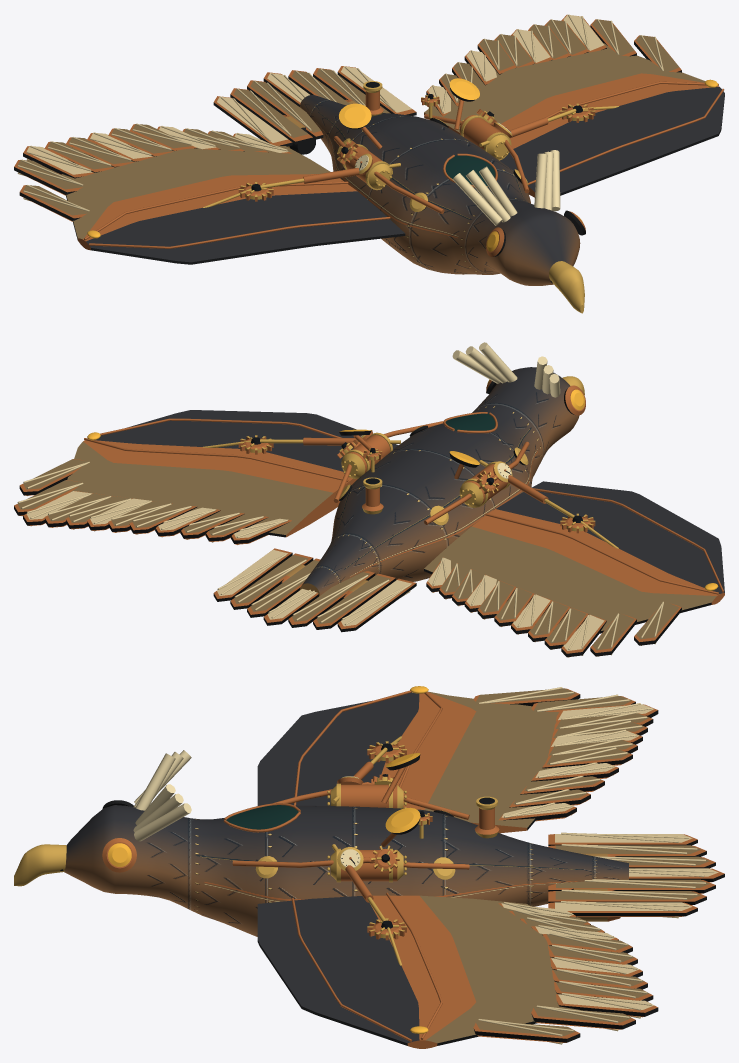
3 renders of one model, top to bottom at view 1: azimuth 30°, elevation 25°; view 2: azimuth 150°, elevation 25°; view 3: azimuth 270°, elevation 25°, orthographic. The views are drawn at different scales.
Parts seen in each view (by area): view 1: harpy_eagle_hull; view 2: harpy_eagle_hull; view 3: harpy_eagle_hull.
Boxes of the visible parts, bbox=[...] form: harpy_eagle_hull: bbox=[14, 14, 724, 313]; harpy_eagle_hull: bbox=[14, 342, 724, 657]; harpy_eagle_hull: bbox=[14, 686, 724, 1048].
Size of the model in its own units: 272 by 60.16 by 233.
1 material, 1 textured.
